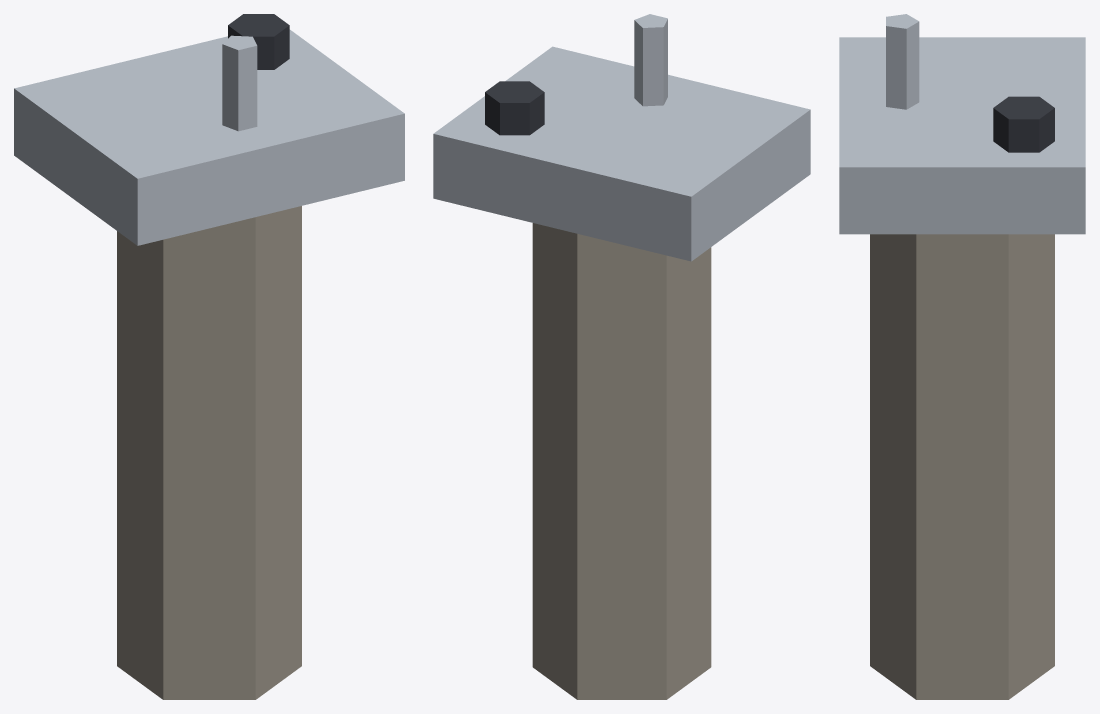
File: drinking_fountain.glb
The picture shows the model from 3 angles, left to right: view 1: azimuth 30°, elevation 25°; view 2: azimuth 150°, elevation 25°; view 3: azimuth 270°, elevation 25°; orthographic projection. The views are drawn at different scales.
Visible parts, largest first — view 1: drinking_fountain; view 2: drinking_fountain; view 3: drinking_fountain.
Boxes of the visible parts, x1,y1,x2,y2 form: drinking_fountain: (14,14,404,699); drinking_fountain: (433,14,810,699); drinking_fountain: (839,14,1085,699).
Size of the model in its own units: 0.5 by 1.16 by 0.4.
